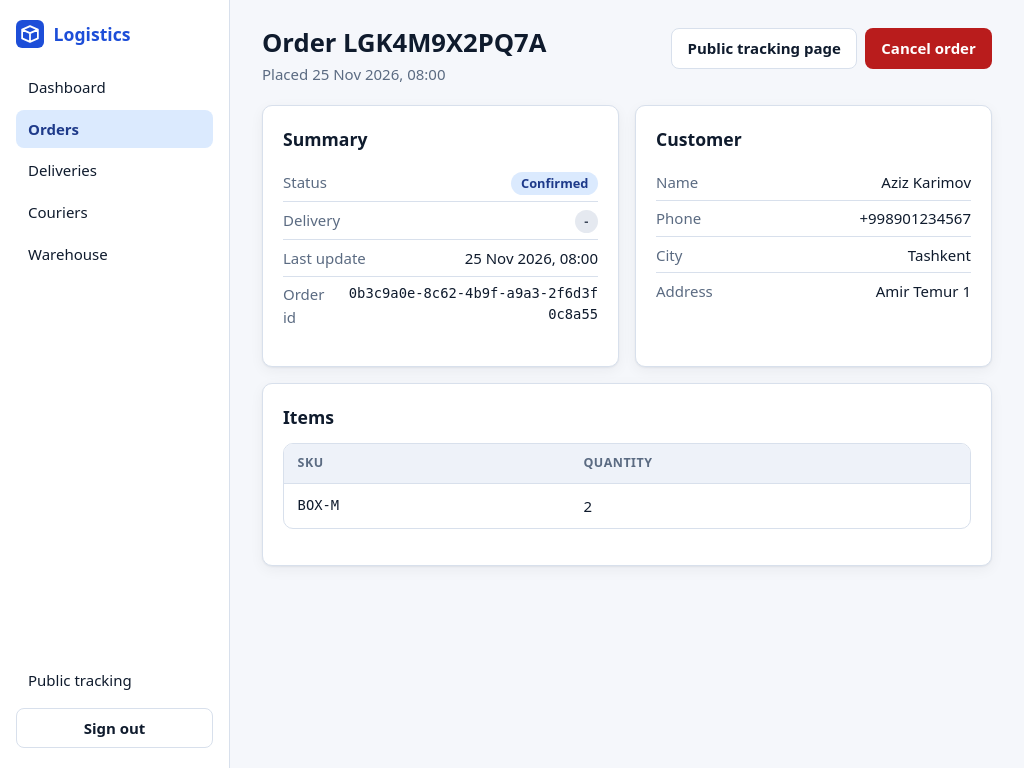
order detail › explains a failed cancellation
Click the button "Cancel order". click: (929,48)
box: [865,28,992,68]
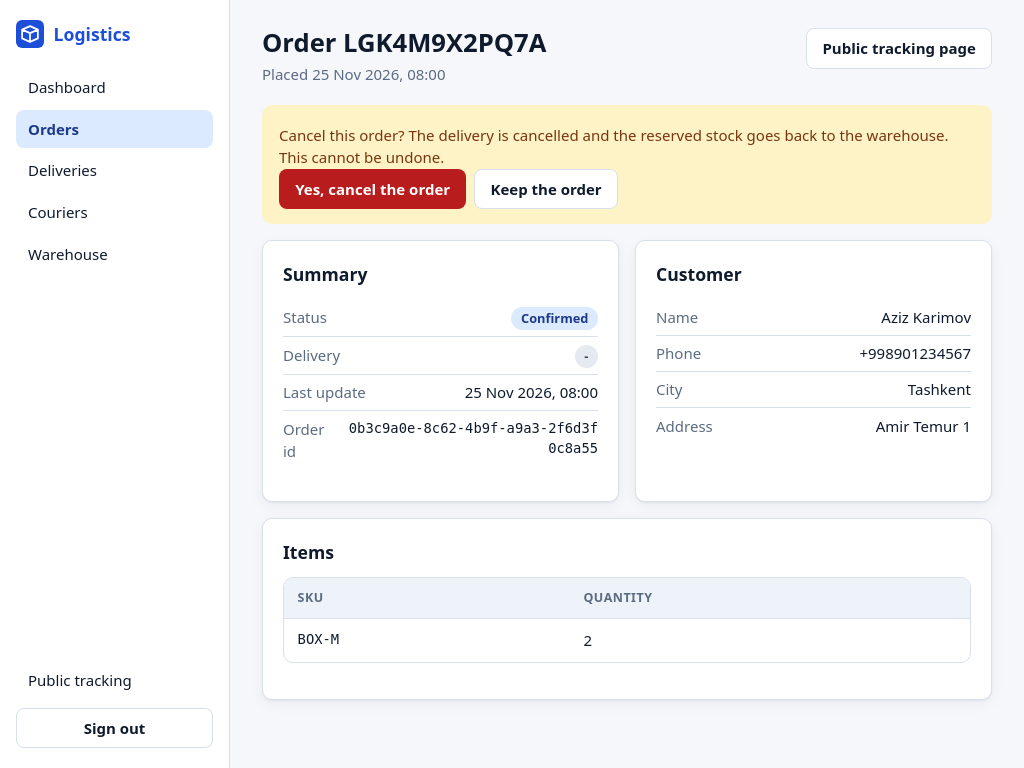
Click the button "Yes, cancel the order". click: (373,189)
box: [279,169,466,209]
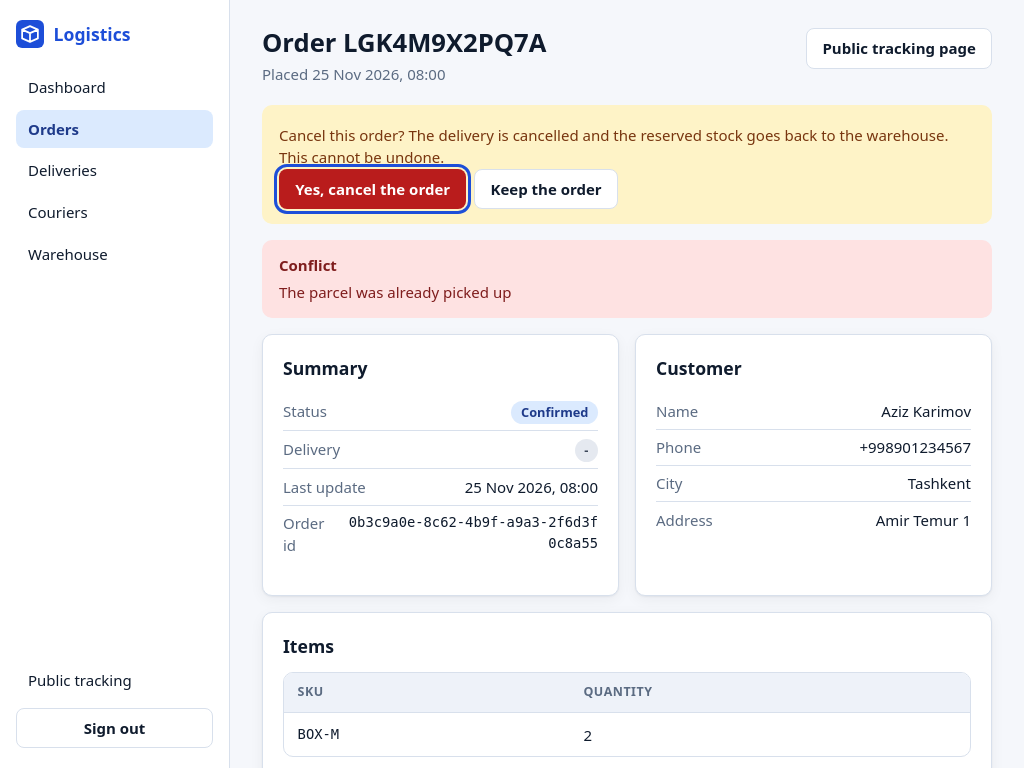
expect the text "The parcel was already picked up" is shown: met, box [279,282,512,302]
